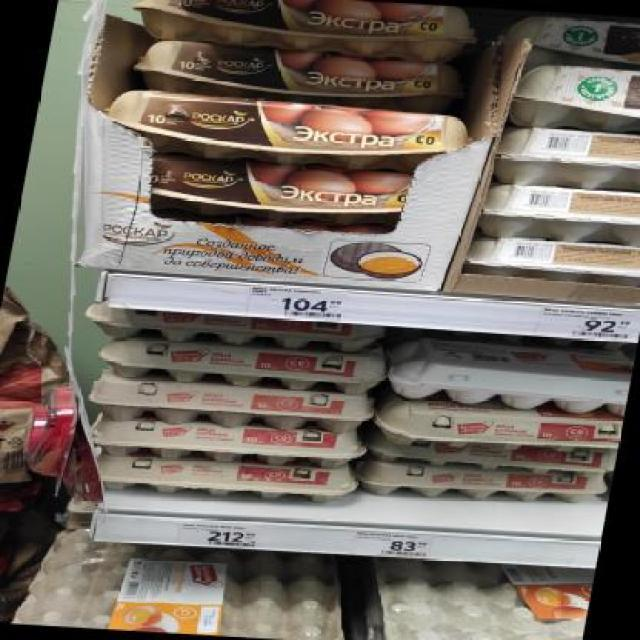egg: (100, 88, 477, 176), (124, 38, 476, 113), (120, 0, 488, 62), (142, 156, 412, 235), (381, 338, 636, 417), (80, 376, 380, 436), (89, 335, 393, 394), (80, 297, 389, 353), (87, 416, 370, 472), (378, 396, 624, 458), (91, 453, 363, 505), (359, 460, 612, 506), (478, 181, 639, 248), (374, 435, 617, 476), (498, 127, 640, 196), (462, 234, 640, 288), (498, 13, 640, 76)
